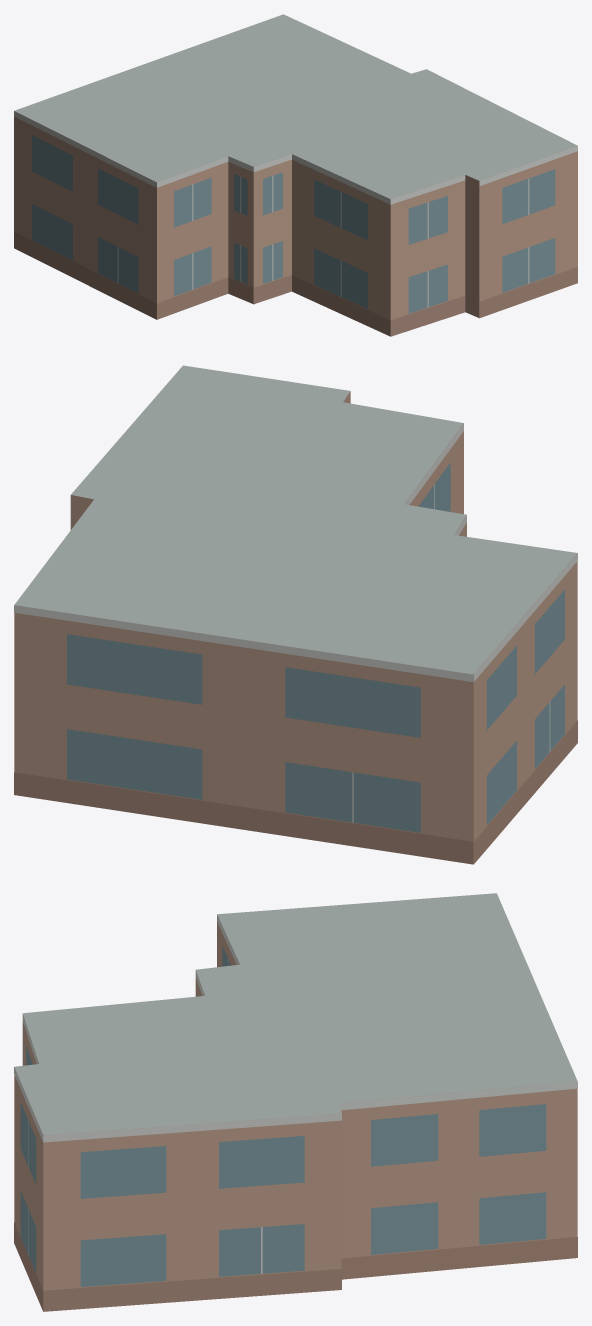
File: survey-upis-32674236.glb
3 views of the same model, one above another, from view 1: azimuth 30°, elevation 25°; view 2: azimuth 150°, elevation 25°; view 3: azimuth 270°, elevation 25° (orthographic). The views are drawn at different scales.
Visible parts, largest first — view 1: survey-upis-32674236.tmp; view 2: survey-upis-32674236.tmp; view 3: survey-upis-32674236.tmp.
Part boxes in pixels (x1,y1,x2,y2): survey-upis-32674236.tmp: (14,14,577,336); survey-upis-32674236.tmp: (14,365,577,864); survey-upis-32674236.tmp: (14,893,577,1311).
Bounding box in the file's own units: 17.99 × 6.1 × 17.69.
